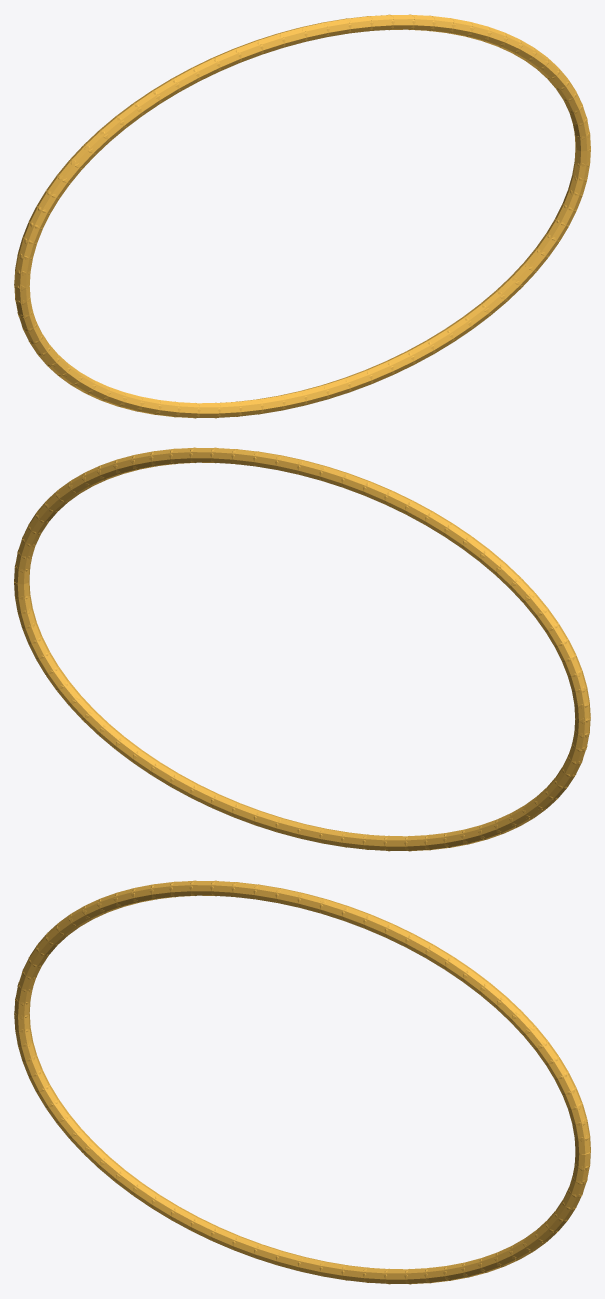
Rendered from 12_L83_SolarIncidenceVectorProjector.fbx.
3 renders of one model, top to bottom at view 1: azimuth 30°, elevation 25°; view 2: azimuth 150°, elevation 25°; view 3: azimuth 330°, elevation 25°, orthographic.
Visible parts, largest first — view 1: SolarIncidenceVectorProjector; view 2: SolarIncidenceVectorProjector; view 3: SolarIncidenceVectorProjector.
Part boxes in pixels (bbox=[...]): SolarIncidenceVectorProjector: bbox=[14, 14, 590, 418]; SolarIncidenceVectorProjector: bbox=[14, 447, 590, 851]; SolarIncidenceVectorProjector: bbox=[14, 880, 590, 1284].
Size of the model in its own units: 215 by 135 by 5.2.
